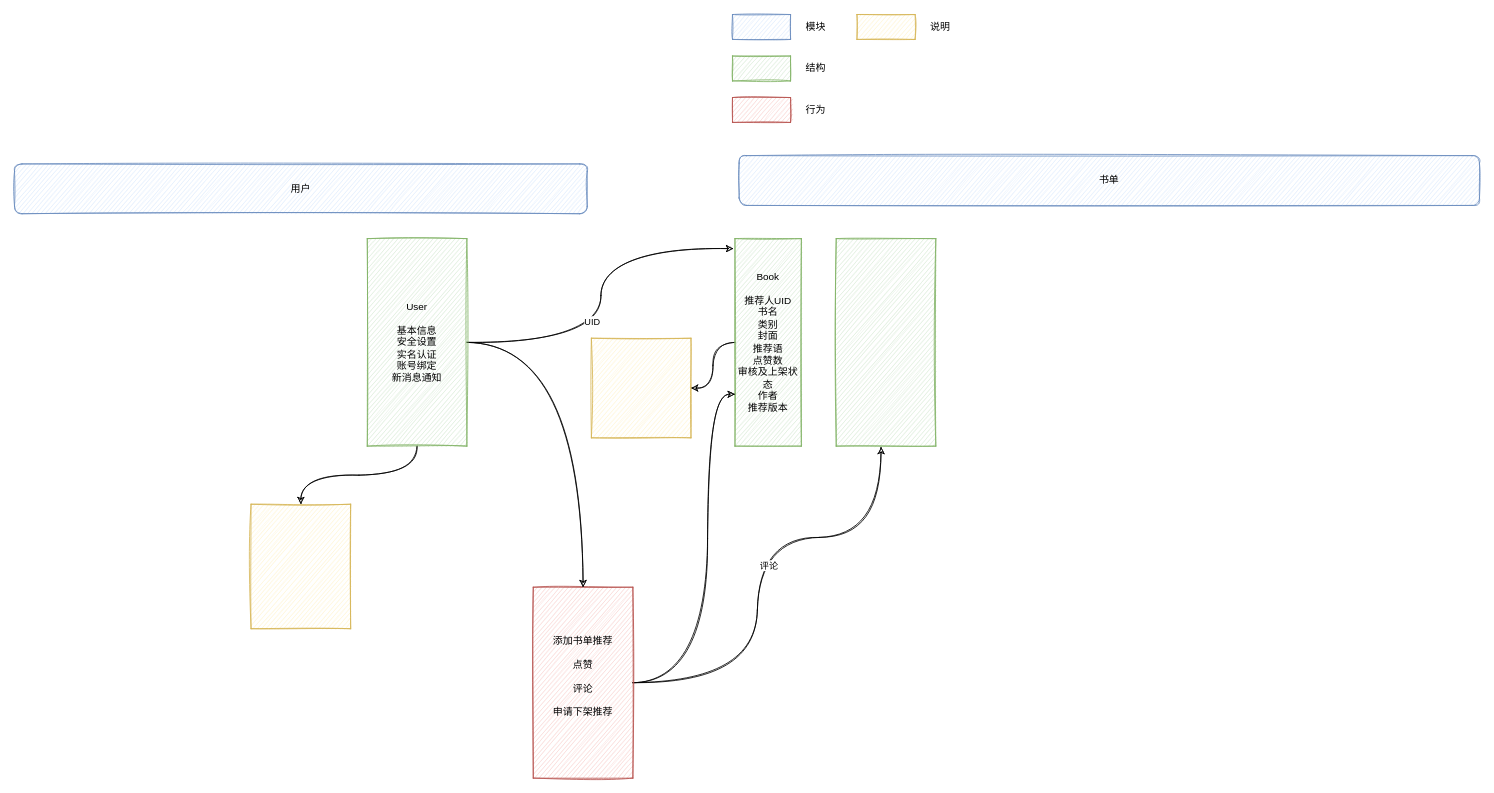
The diagram is 1494 pixels wide and 793 high, and some of its shapes have lost their labels. The shapes that lost their labels are listed below. From the top down, each one's centre as x and y in pixels, then its label:
pixel 885 342: Comment bookId： 连接book
pixel 641 387: 状态有： 上架审核中 已上架 下架审核中 已下架 下架再上架审核中
pixel 300 566: 基本信息 昵称 头像 邮箱 个人简介 国家 地区 注册时间
